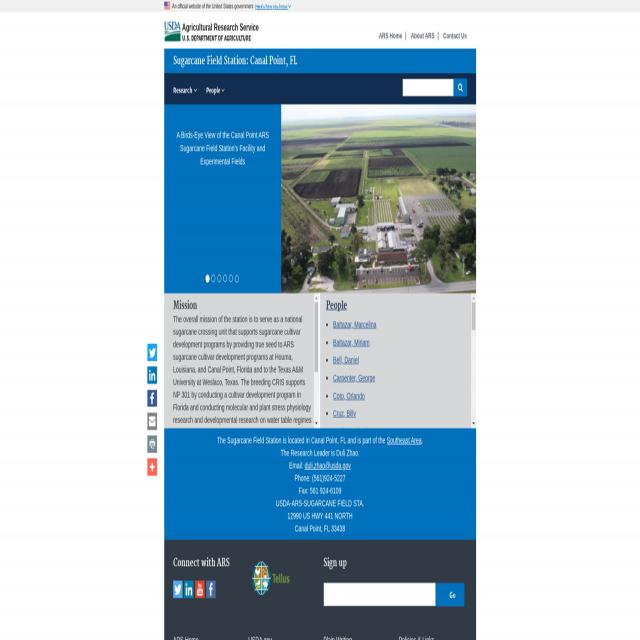button: (252, 562, 290, 595), (169, 79, 201, 105), (202, 79, 229, 105), (436, 583, 464, 606), (333, 390, 366, 402), (164, 21, 181, 41), (453, 79, 467, 97), (255, 3, 291, 9), (147, 458, 157, 476), (173, 580, 183, 598), (184, 580, 194, 598), (195, 580, 205, 598), (206, 580, 216, 598), (147, 344, 157, 361), (147, 390, 157, 407), (147, 413, 157, 430), (147, 436, 157, 452), (164, 0, 170, 11)
field: (324, 582, 436, 606), (402, 79, 453, 97)
